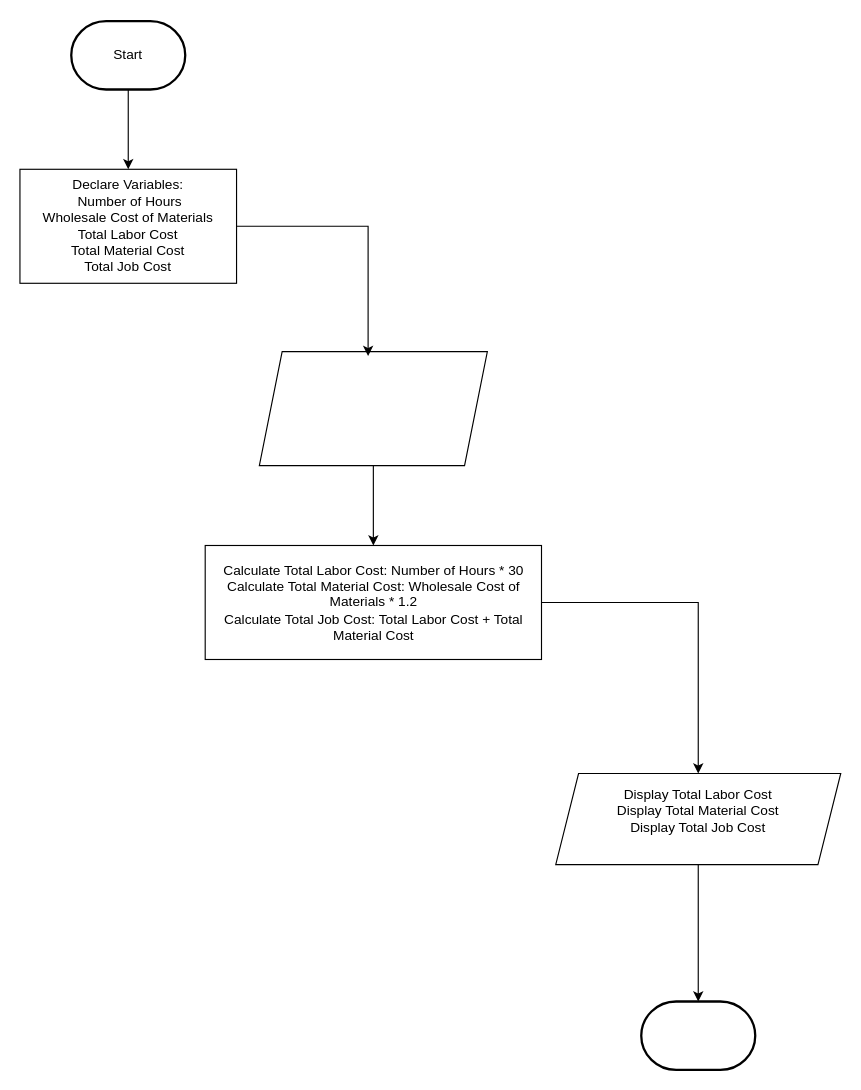
Some shapes in this 861 by 1090 pixel diagram are drawn without their labels. The centre of each missing label's shape, as x and y in pixels:
"Input Projected Hours and Wholesale Cost of Materials" belongs at (372,408).
"Stop" belongs at (698,1035).
